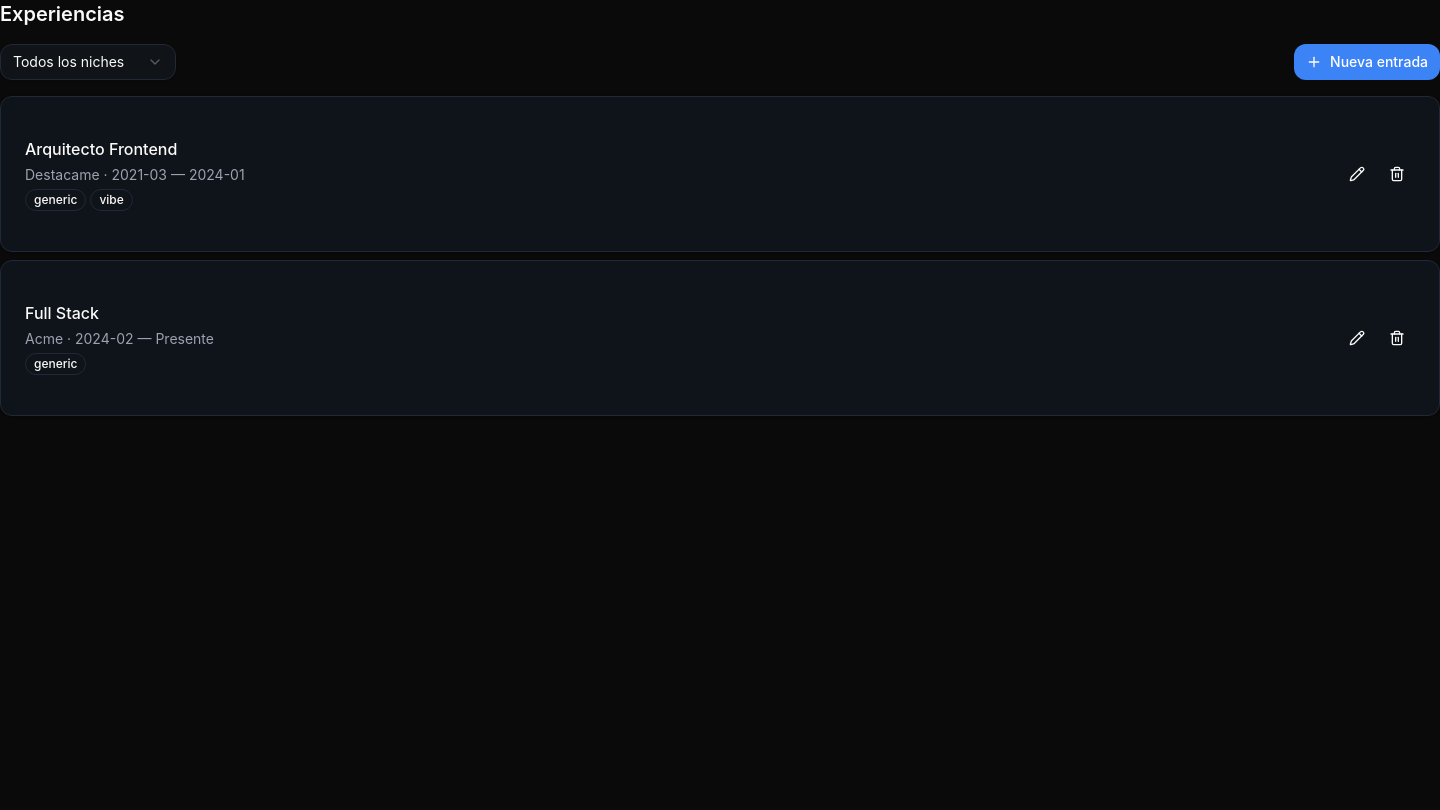
Scenario: CvEntitySection › Given cv-entity-new When se clickea Then abre el dialog con el form vacio
expect the number of elements with test id "cv-entity-card" is 2: met, box [0, 96, 1439, 252]; [0, 260, 1439, 416]
Click the button with test id "cv-entity-new" at x=1367, y=62, box [1294, 44, 1439, 80]
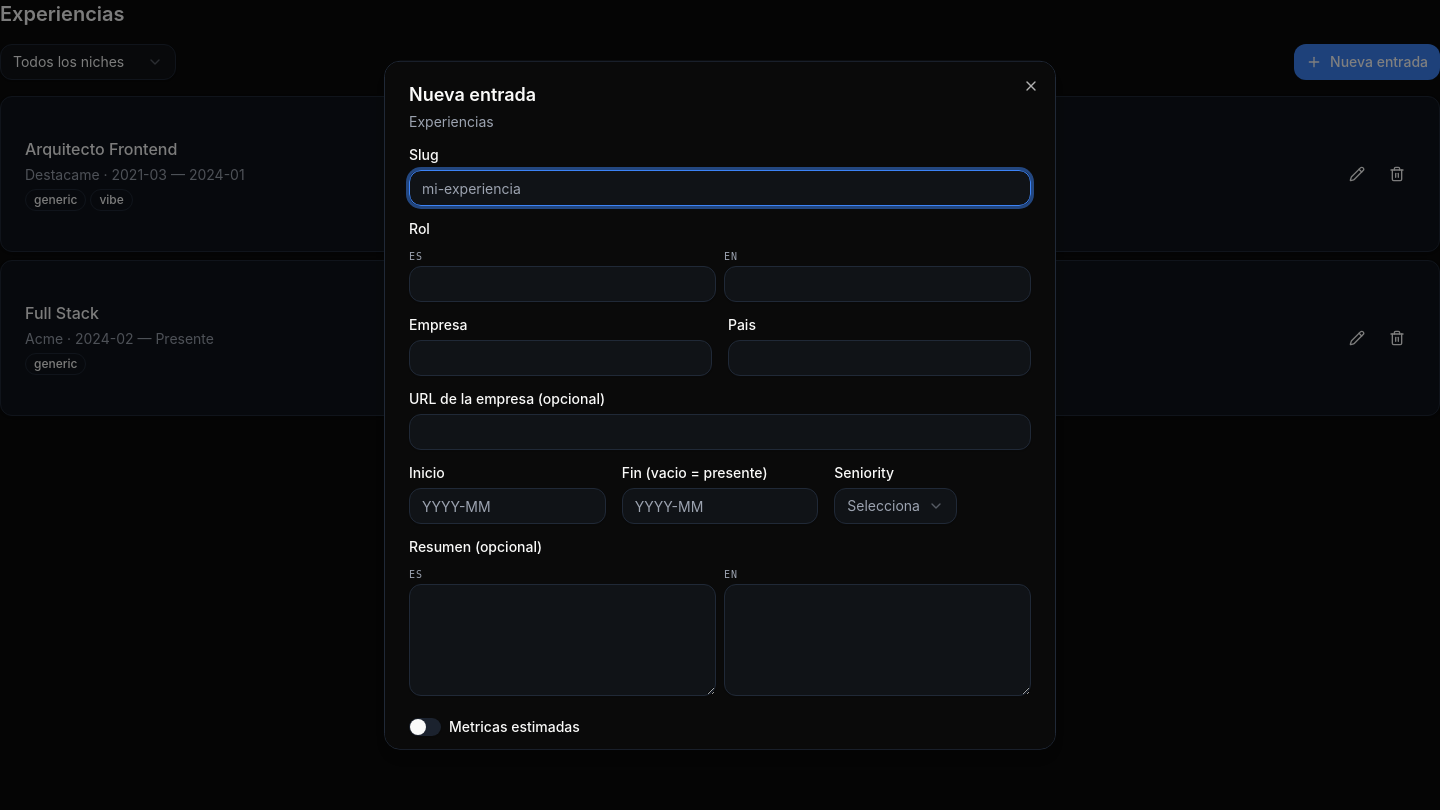
expect the heading "Nueva entrada" is shown: met, box [409, 84, 536, 105]
expect the field with test id "cv-field-slug" is empty: met, box [409, 170, 1031, 206]
expect the field with test id "cv-field-slug" is enabled: met, box [409, 170, 1031, 206]
